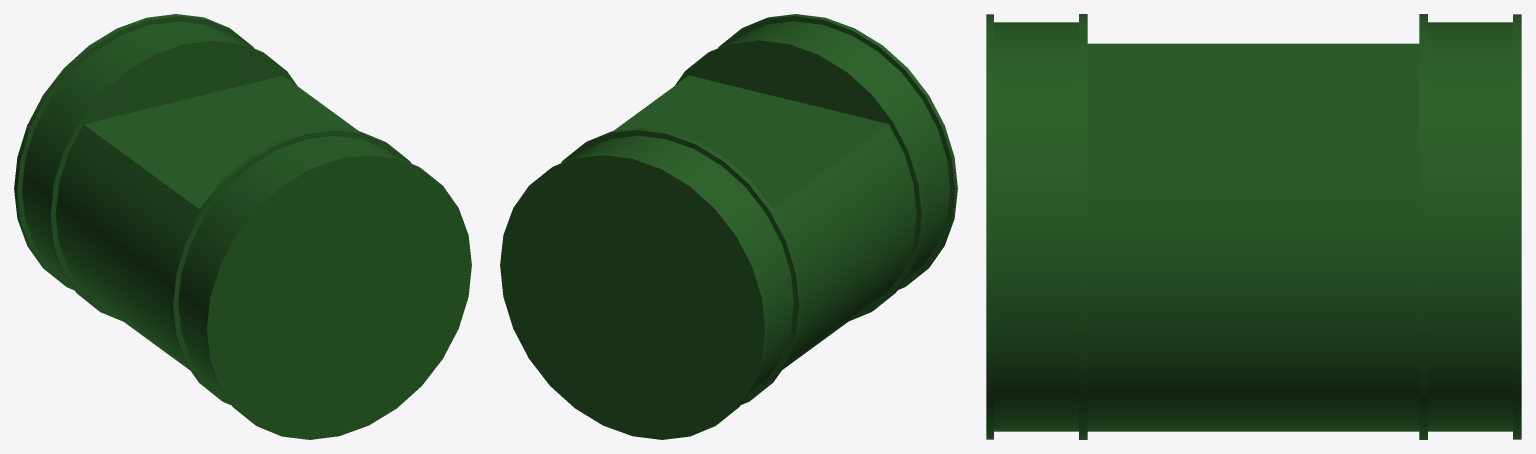
Rendered from Pipe_U-Shaped_16cm.fbx.
3 views of the same model, side by side, from view 1: azimuth 30°, elevation 25°; view 2: azimuth 150°, elevation 25°; view 3: azimuth 270°, elevation 25° (orthographic). The views are drawn at different scales.
Parts seen in each view (by area): view 1: Pipe_U-Shape_16cm; view 2: Pipe_U-Shape_16cm; view 3: Pipe_U-Shape_16cm.
Part boxes in pixels (bbox=[...]): Pipe_U-Shape_16cm: bbox=[14, 14, 471, 439]; Pipe_U-Shape_16cm: bbox=[500, 14, 957, 439]; Pipe_U-Shape_16cm: bbox=[986, 14, 1521, 439].
Size of the model in its own units: 16 by 16 by 20.11.
